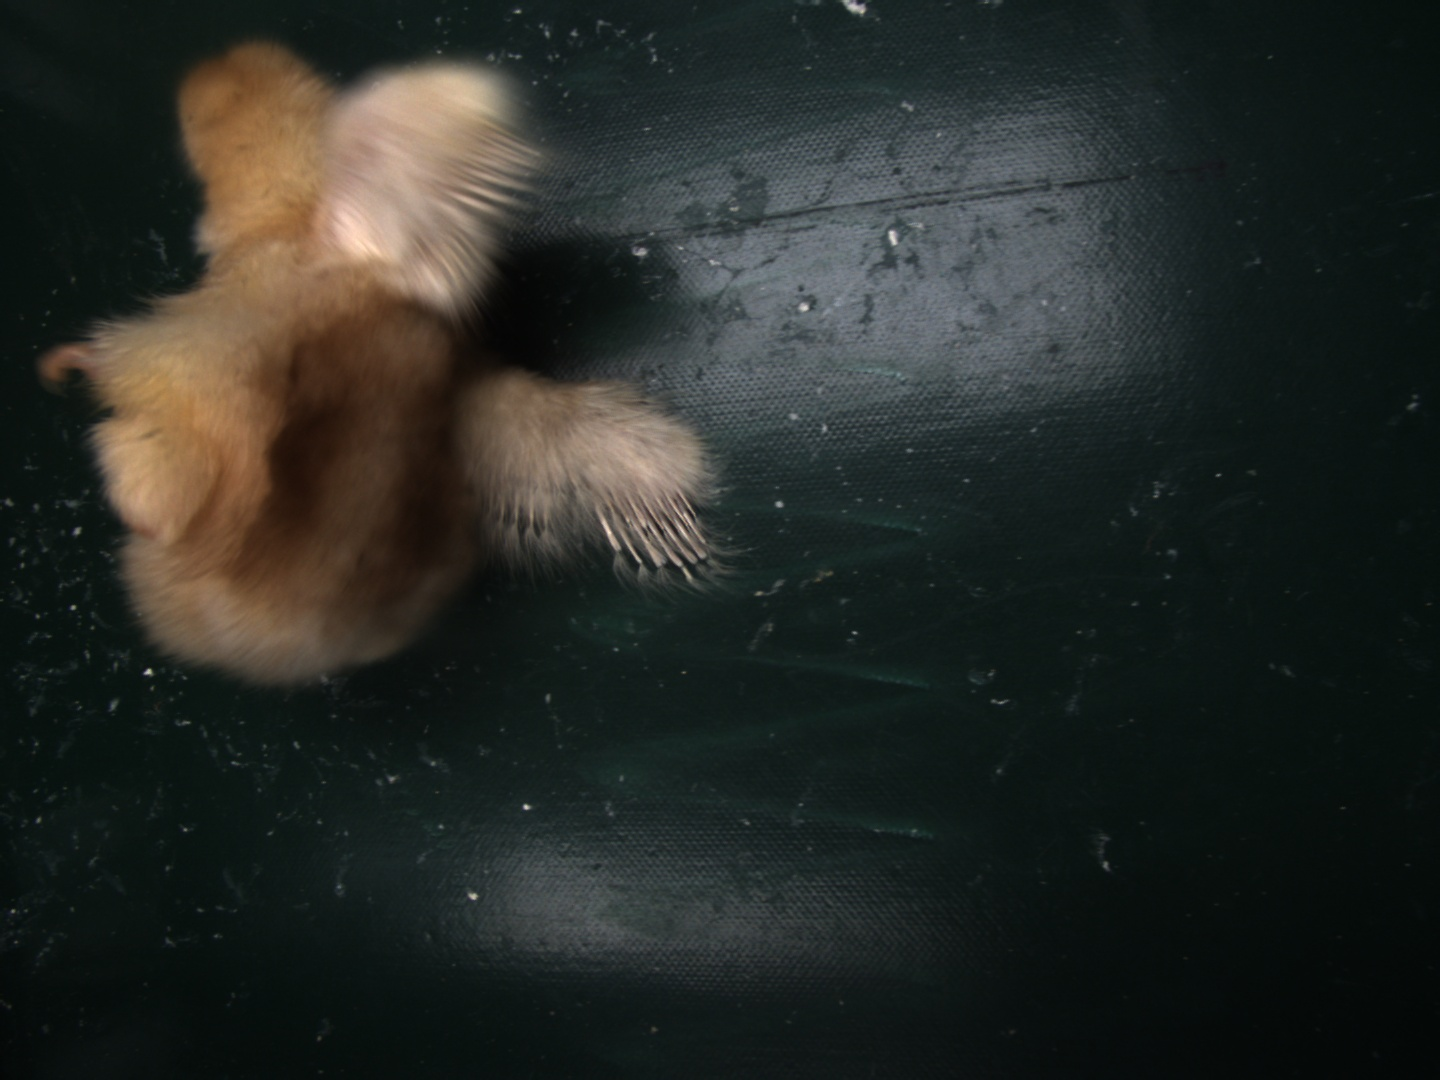female: (592, 475, 714, 568)
